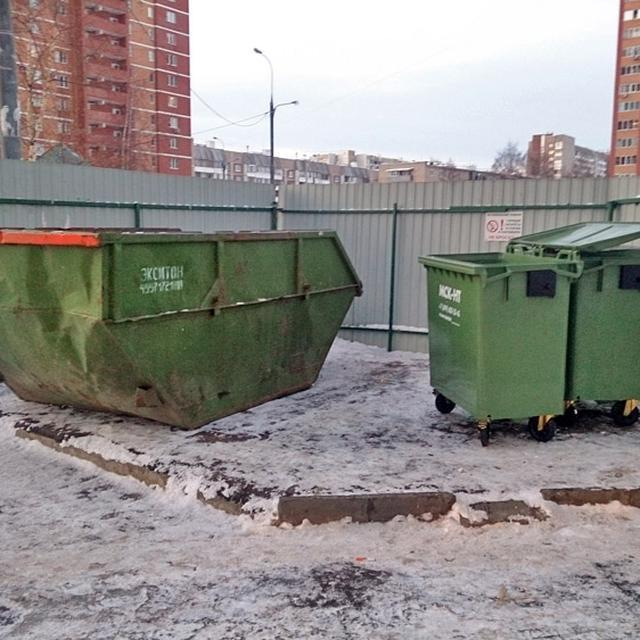Trash_Can_Closed: (572, 245, 640, 401)
Trash_Can_Empty: (420, 251, 575, 418)
